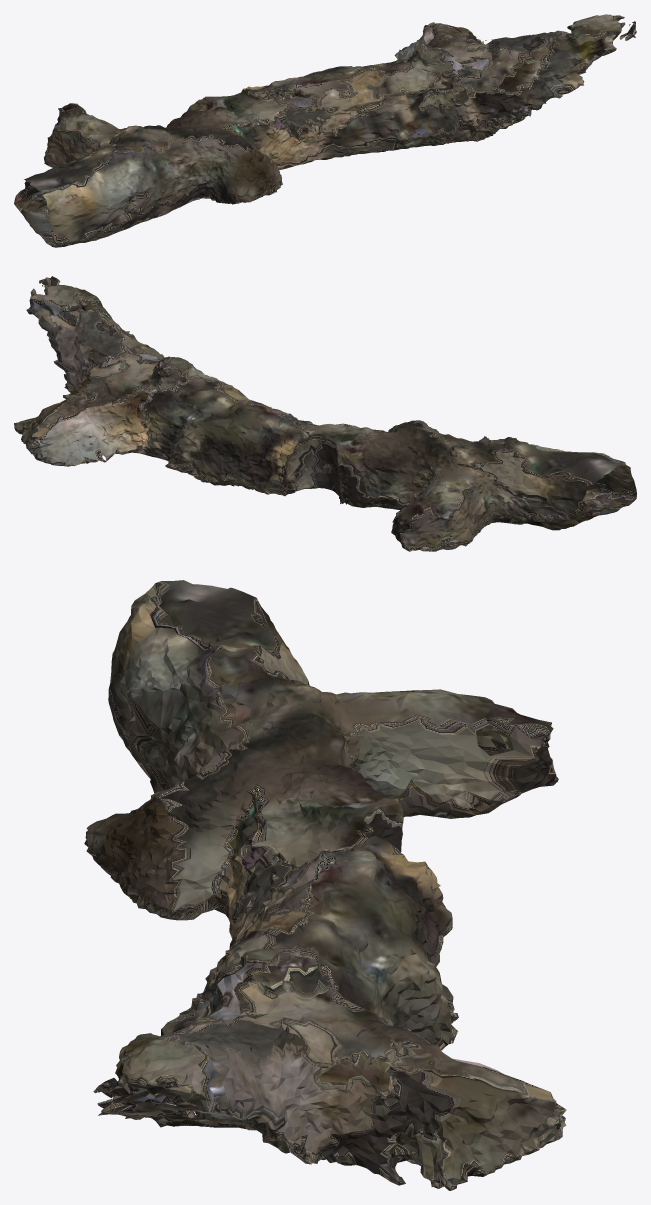
The model's file is Niflheim_Lake_Descending_Cave.glb.
3 views of the same model, one above another, from view 1: azimuth 30°, elevation 25°; view 2: azimuth 150°, elevation 25°; view 3: azimuth 270°, elevation 25° (orthographic). The views are drawn at different scales.
Visible parts, largest first — view 1: geometry_0; view 2: geometry_0; view 3: geometry_0.
Part boxes in pixels (box(x1,y1,x2,y2)): geometry_0: box(14, 14, 636, 247); geometry_0: box(14, 276, 636, 551); geometry_0: box(84, 580, 566, 1190).
Bounding box in the file's own units: 24.8 × 3.76 × 8.81.
1 material, 1 textured.
